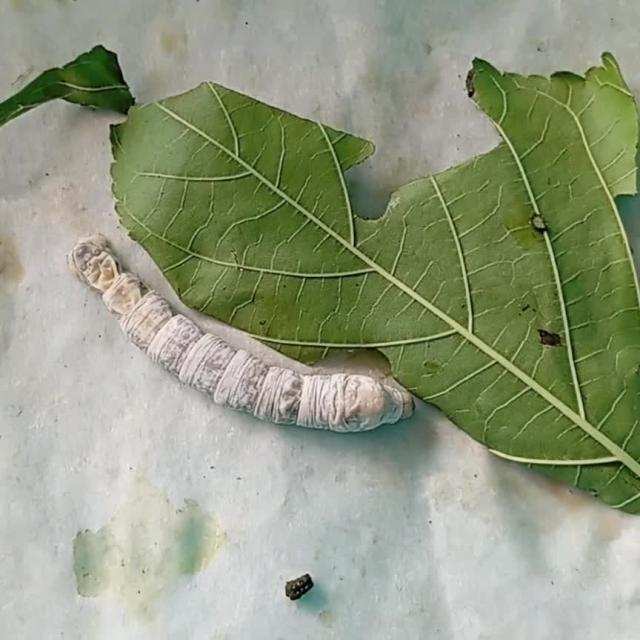Grasserie: (63, 218, 423, 444)
